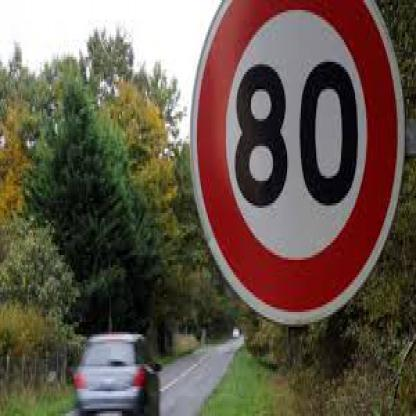Speed Limit 80: (196, 1, 399, 324)
